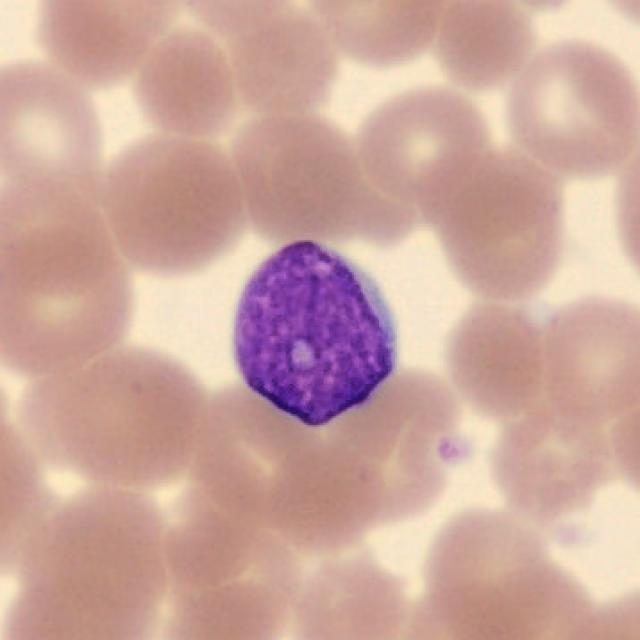Linfocito: (232, 240, 397, 428)
